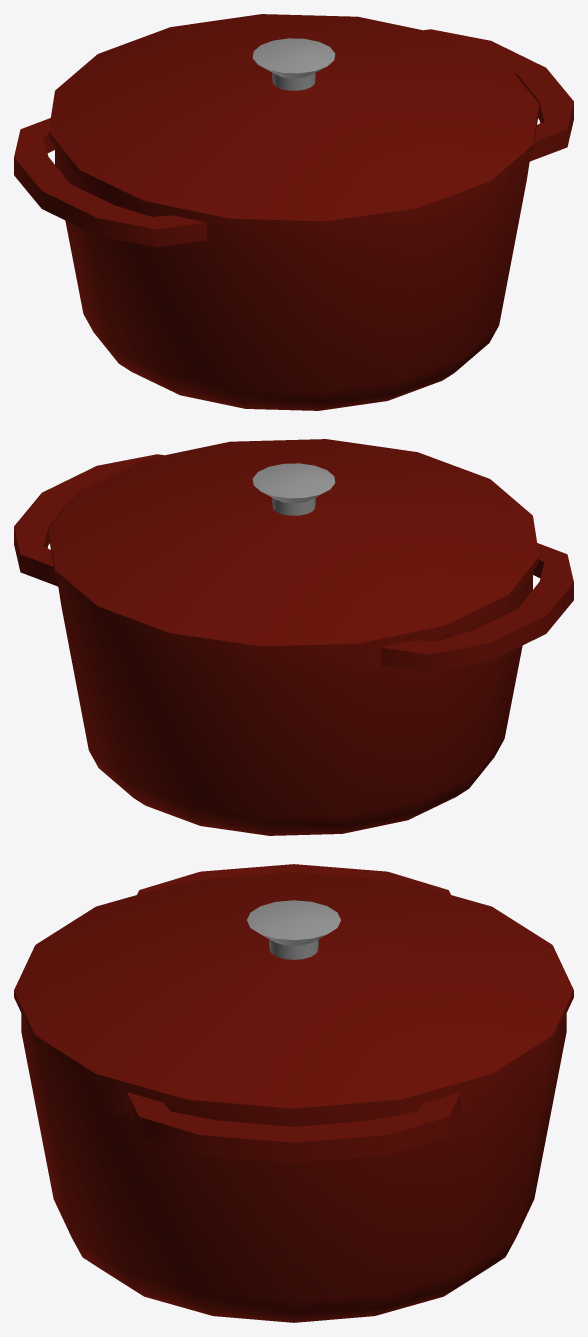
Rendered from Pot.fbx.
3 views of the same model, one above another, from view 1: azimuth 30°, elevation 25°; view 2: azimuth 150°, elevation 25°; view 3: azimuth 270°, elevation 25° (orthographic). The views are drawn at different scales.
Parts seen in each view (by area): view 1: Pot; view 2: Pot; view 3: Pot.
Boxes of the visible parts, x1,y1,x2,y2 form: Pot: (14,14,573,410); Pot: (14,439,573,835); Pot: (14,864,573,1322).
Size of the model in its own units: 95.44 by 52.22 by 81.07.
